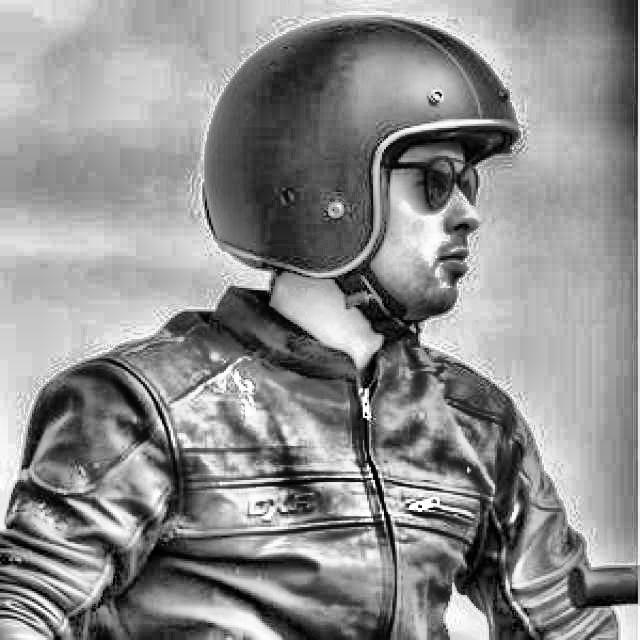Helmet: (192, 6, 527, 356)
